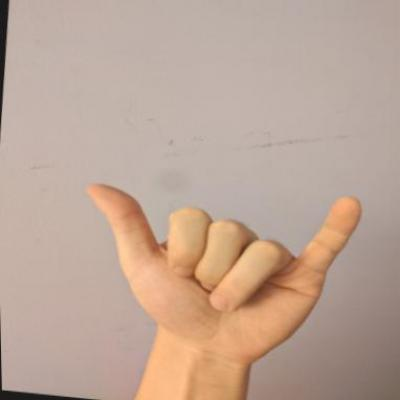hand: (67, 165, 370, 373)
